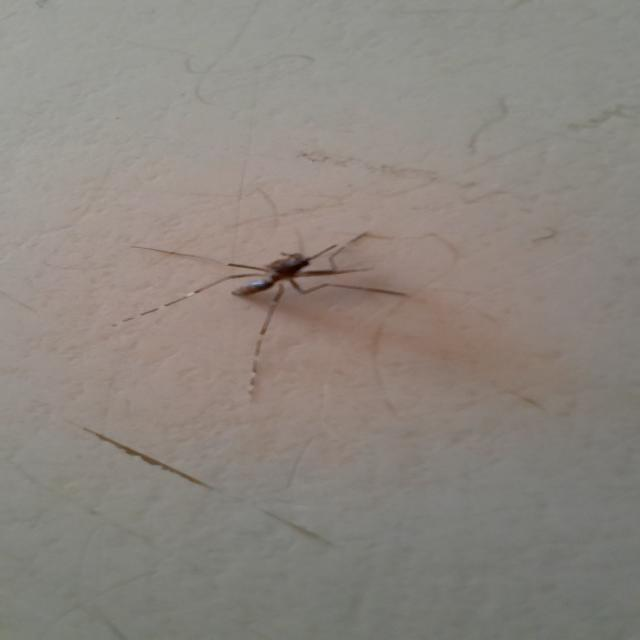albopictus: (117, 222, 397, 356)
